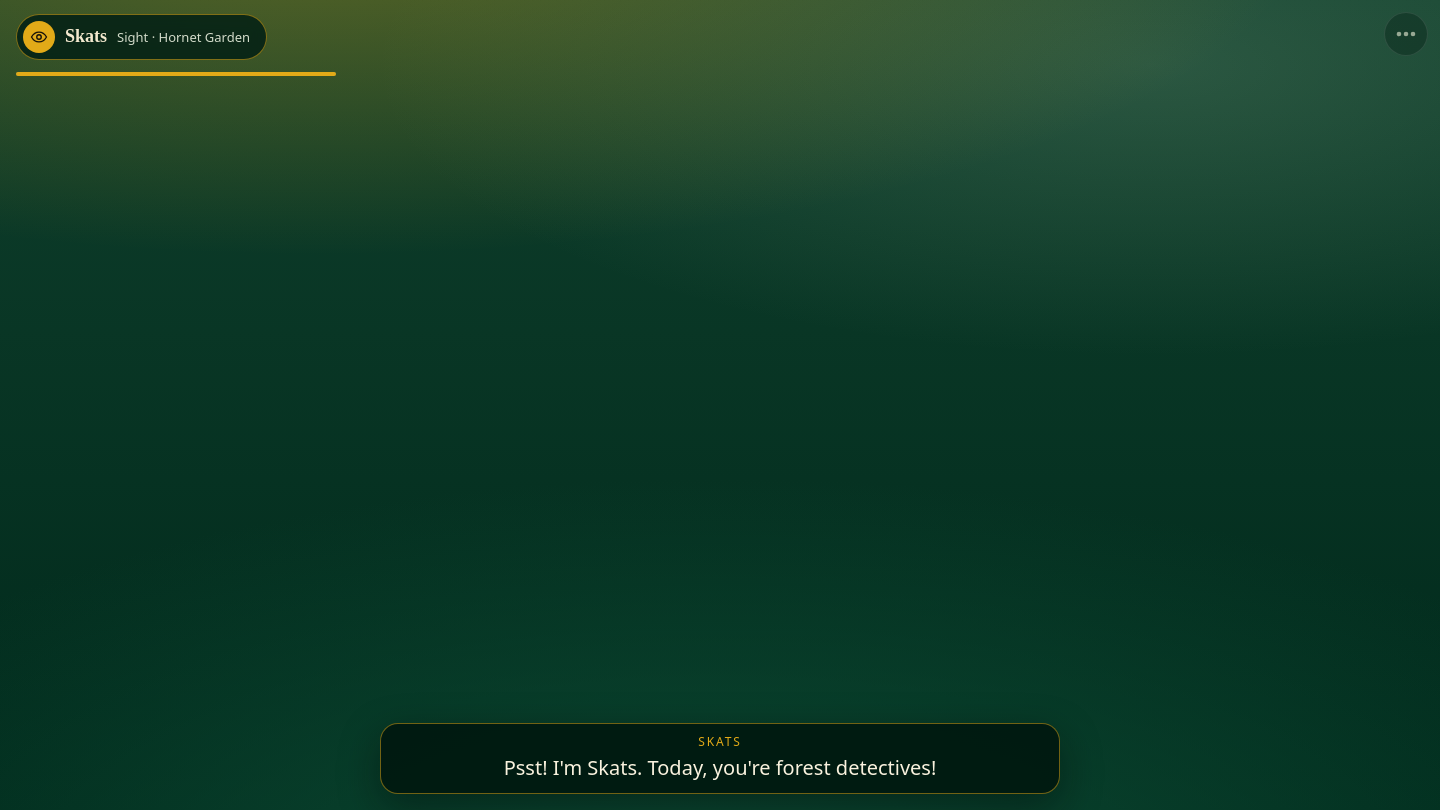
Test: presenter controls › restart needs a second press and returns to a clean welcome screen
The image size is (1440, 810).
Earlier steps of the test are not shown.
Press ArrowRight
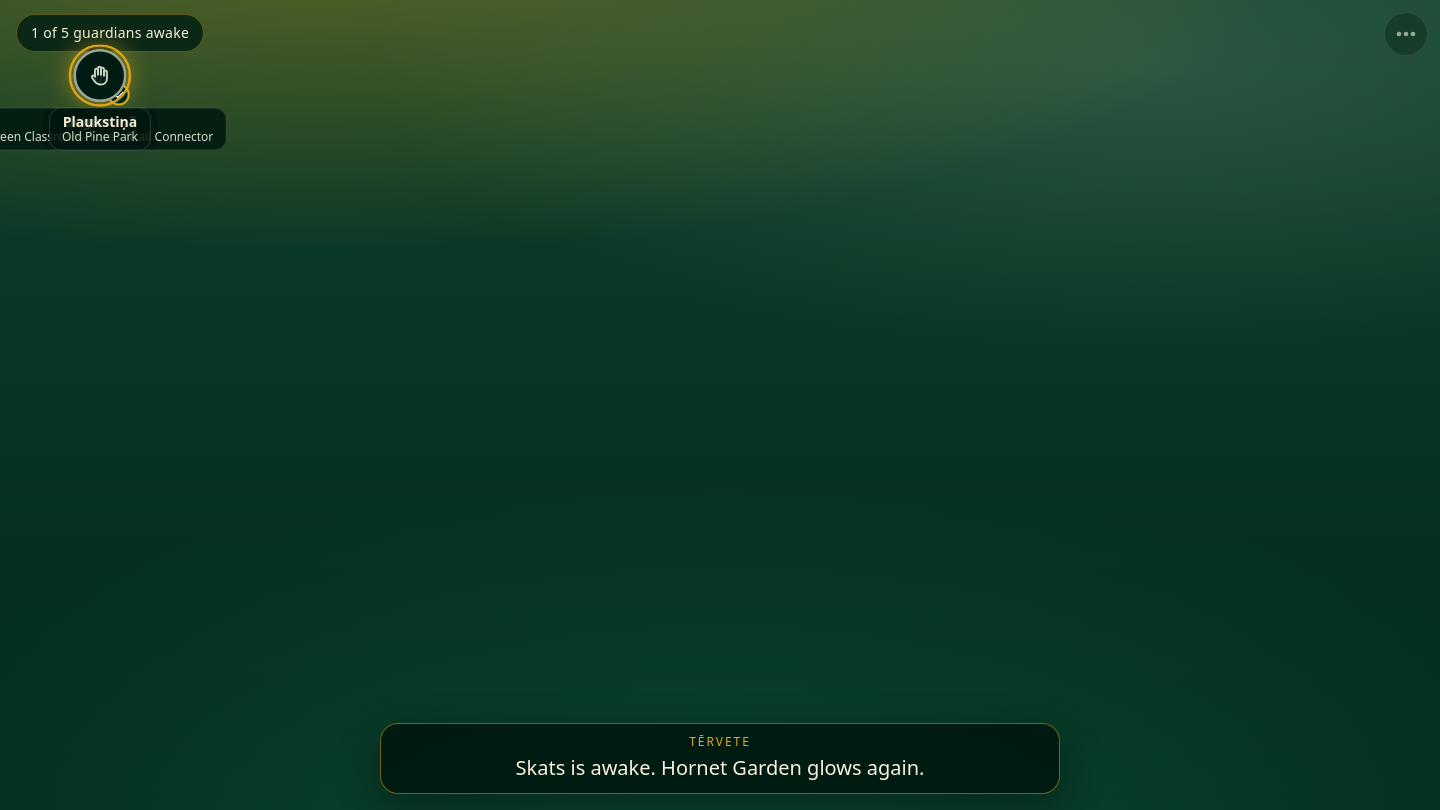
Press p
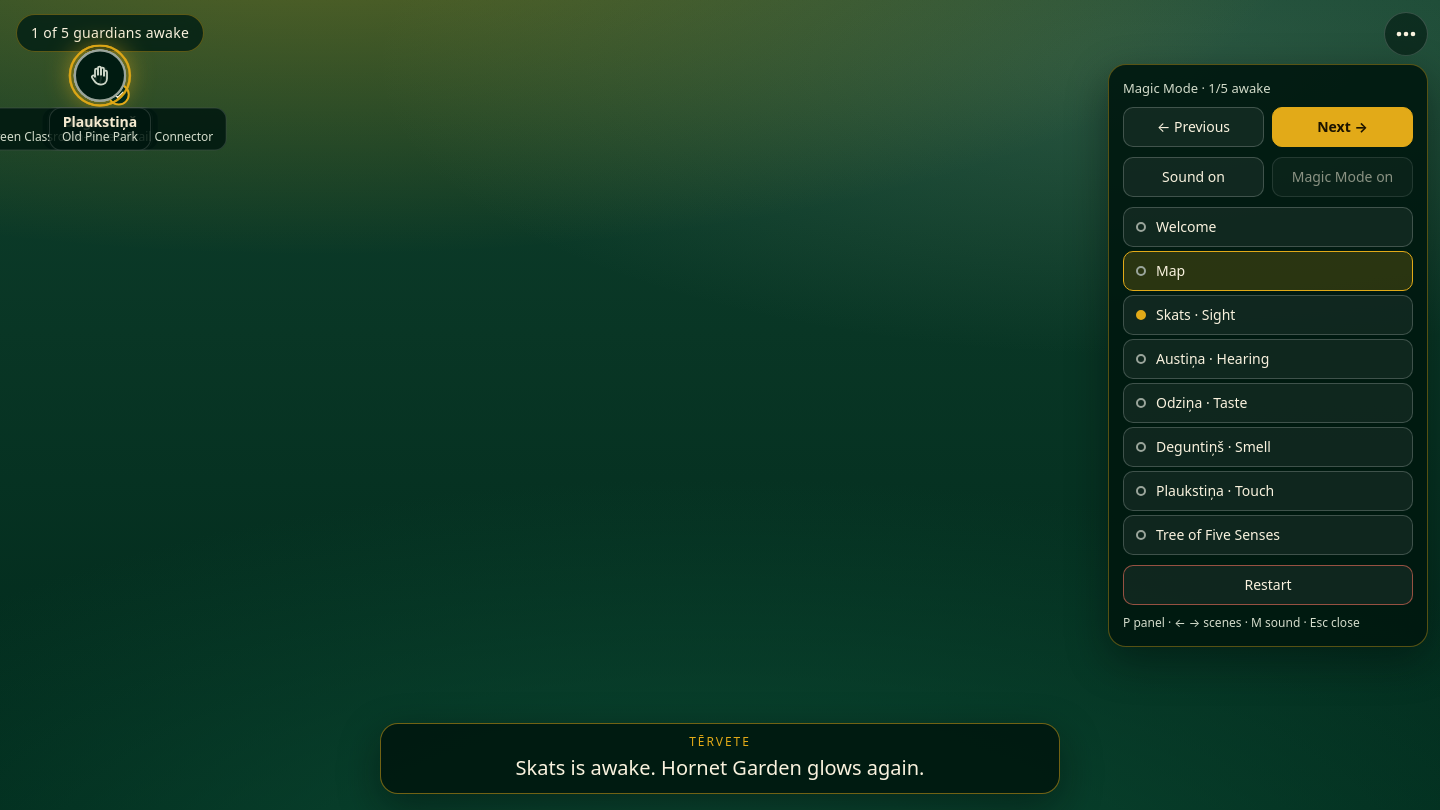
Click the button "Restart": (1268, 585) [1123,565,1413,605]
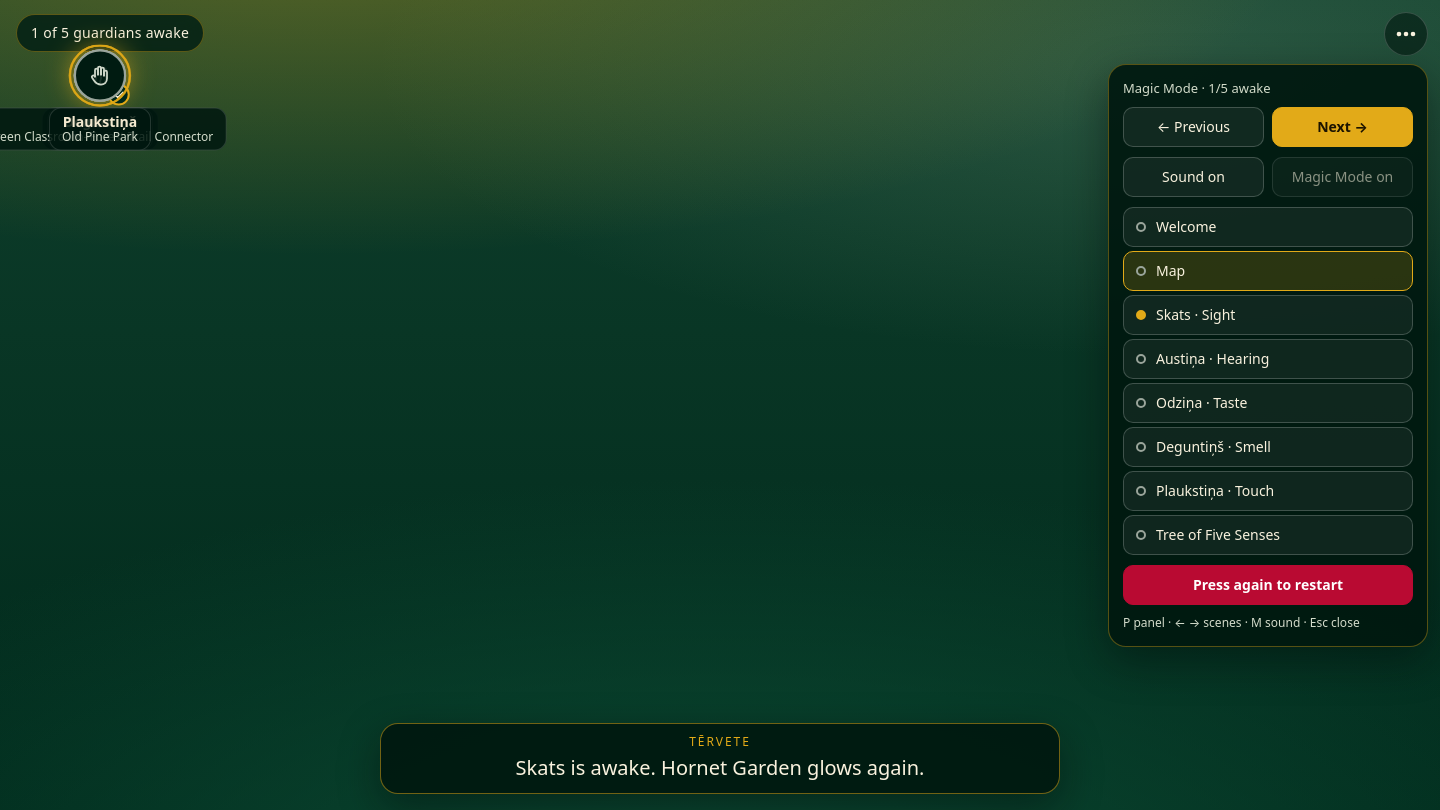
Now the button "Welcome" is shown, box [1123,207,1413,247]
Now the text "1 of 5 guardians awake" is shown, box [16,14,204,52]
Click the button "Press again to restart": (1268, 585) [1123,565,1413,605]
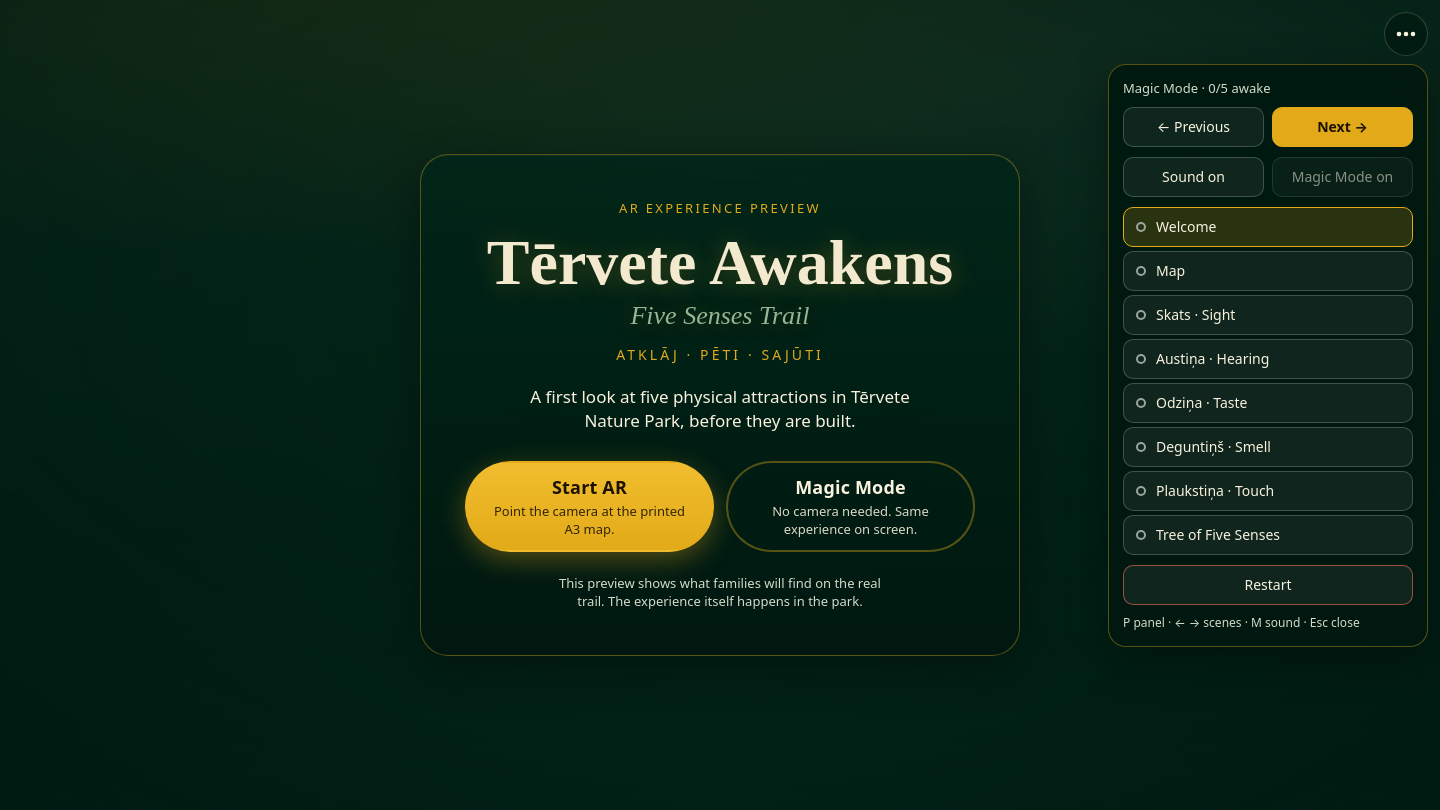
Now the button "Start AR Point the camera at the printed A3 map." is shown, box [465,461,714,552]
Now the text "Magic Mode · 0/5 awake" is shown, box [1123,79,1270,97]
